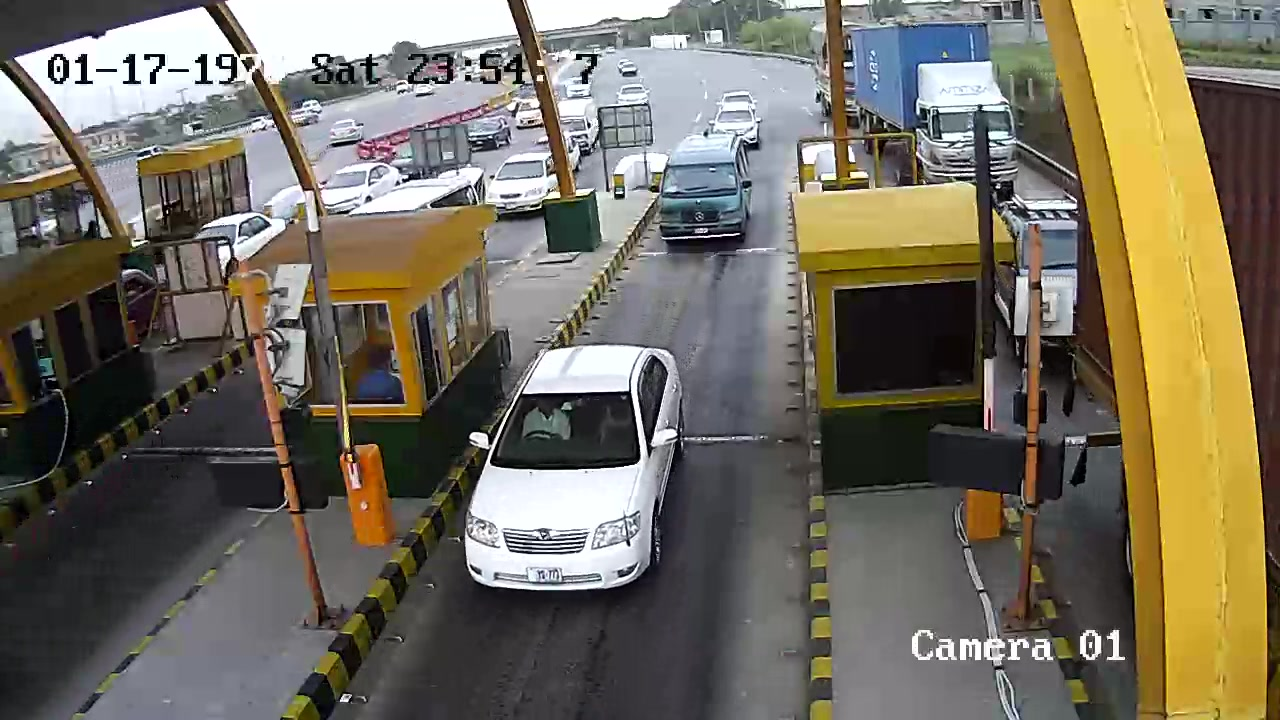F1: (459, 333, 709, 598)
